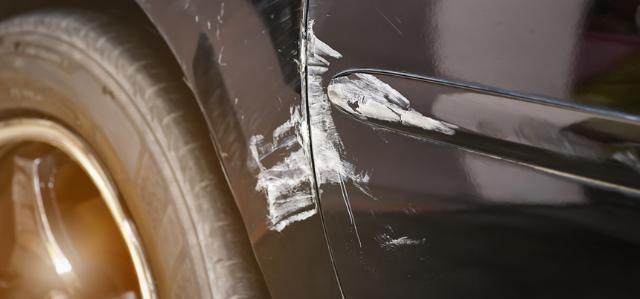Door: (308, 0, 508, 253)
Fender: (169, 0, 319, 233)
